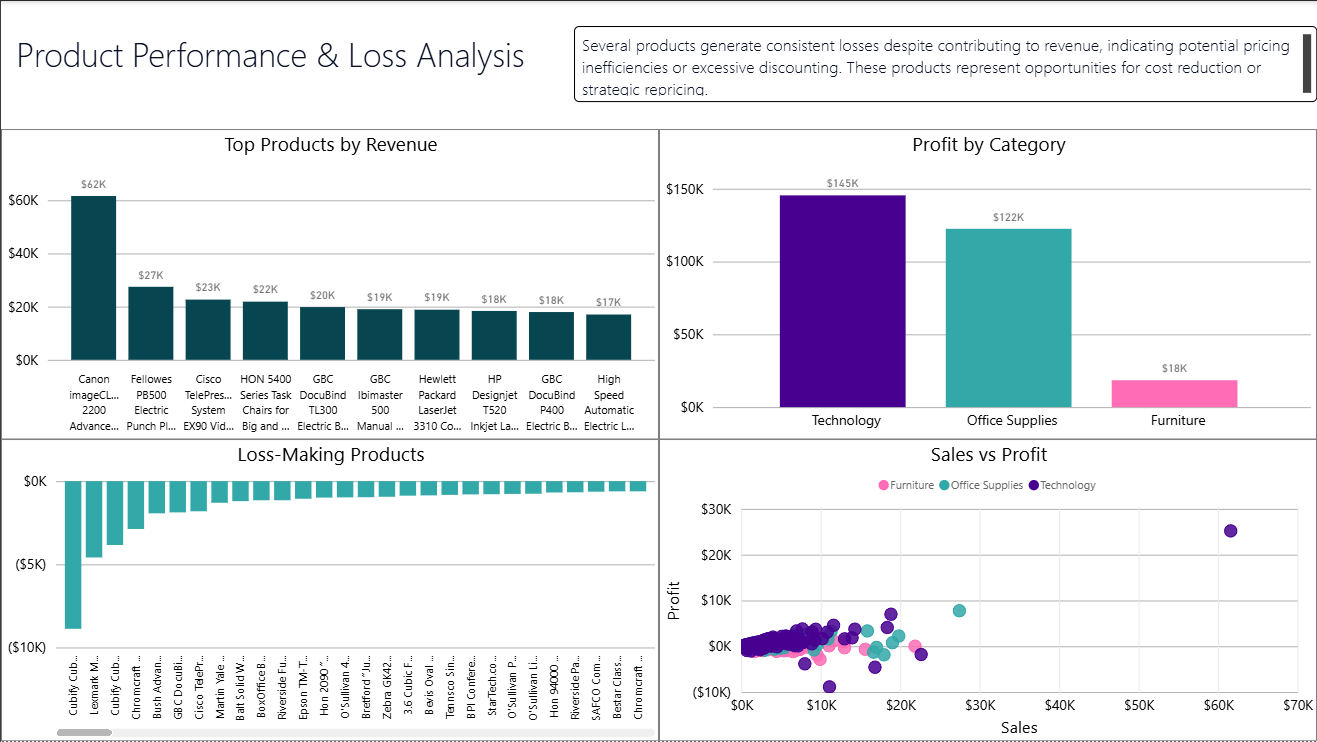

The dashboard page shown, as its layout file describes it:
{"tool":"powerbi","page":{"name":"Product Performace & Loss Analysis","canvas":[1280,720],"ordinal":2},"visuals":[{"type":"textbox","box":[9.7,24.3,547.6,62.2],"z":0},{"type":"clusteredColumnChart","title":"Top Products by Revenue","fields":{"Category":["Superstore.Product Name"],"Y":["Sum(Superstore.Sales)"]},"box":[0,124.5,640,302.5],"z":1000},{"type":"clusteredColumnChart","title":"Loss-Making Products","fields":{"Y":["Sum(Superstore.Profit)"],"Category":["Superstore.Product Name"]},"box":[0,426,640,293.7],"z":2000},{"type":"clusteredColumnChart","title":"Profit by Category","fields":{"Category":["Superstore.Category"],"Y":["Sum(Superstore.Profit)"]},"box":[640,124.5,640,302.5],"z":3000},{"type":"scatterChart","title":"Sales vs Profit","fields":{"Y":["Sum(Superstore.Profit)"],"X":["Sum(Superstore.Sales)"],"Category":["Superstore.Product Name"],"Series":["Superstore.Category"]},"box":[640,426,640,293.7],"z":4000},{"type":"textbox","box":[557.3,24.3,722.7,73.9],"z":5000}]}

Visuals, with their boxes in screenshot pixels (x1, y1, x2, y2), scaled from the page's 1280x720 canvas onto the 1317x742 screenshot:
textbox: select_region(10, 25, 573, 89)
"Top Products by Revenue" clusteredColumnChart: select_region(0, 128, 658, 440)
"Loss-Making Products" clusteredColumnChart: select_region(0, 439, 658, 741)
"Profit by Category" clusteredColumnChart: select_region(658, 128, 1316, 440)
"Sales vs Profit" scatterChart: select_region(658, 439, 1316, 741)
textbox: select_region(573, 25, 1316, 101)
